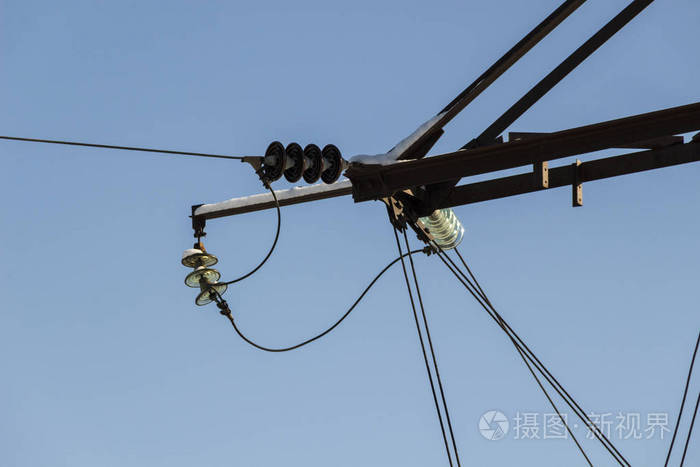insulator: (262, 139, 348, 186), (181, 253, 224, 309), (424, 210, 469, 250)
